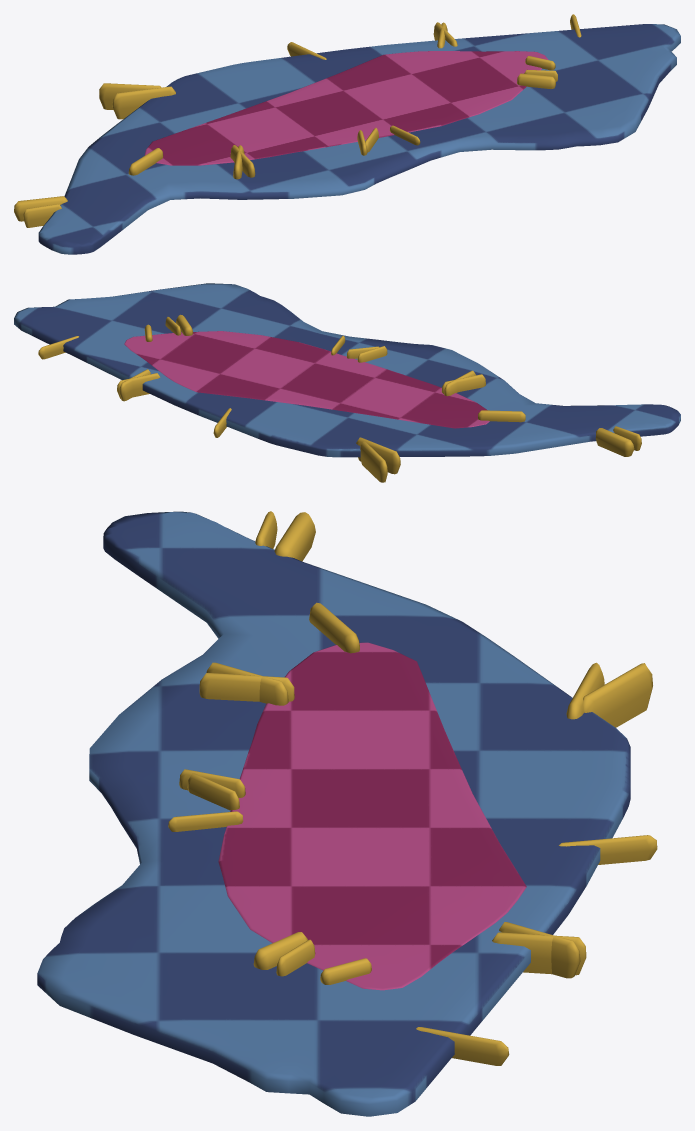
The model's file is GroundCloth.fbx.
3 renders of one model, top to bottom at view 1: azimuth 30°, elevation 25°; view 2: azimuth 150°, elevation 25°; view 3: azimuth 270°, elevation 25°, orthographic. The views are drawn at different scales.
Visible parts, largest first — view 1: GroundCloth2, GroundCloth1; view 2: GroundCloth2, GroundCloth1; view 3: GroundCloth2, GroundCloth1.
Part boxes in pixels (x1,y1,x2,y2): GroundCloth2: (14, 14, 680, 254); GroundCloth1: (128, 51, 557, 179); GroundCloth2: (14, 283, 680, 482); GroundCloth1: (124, 314, 525, 428); GroundCloth2: (37, 511, 657, 1116); GroundCloth1: (168, 602, 526, 990).
Size of the model in its own units: 10.56 by 0.4447 by 4.67.
1 material, 1 textured.
